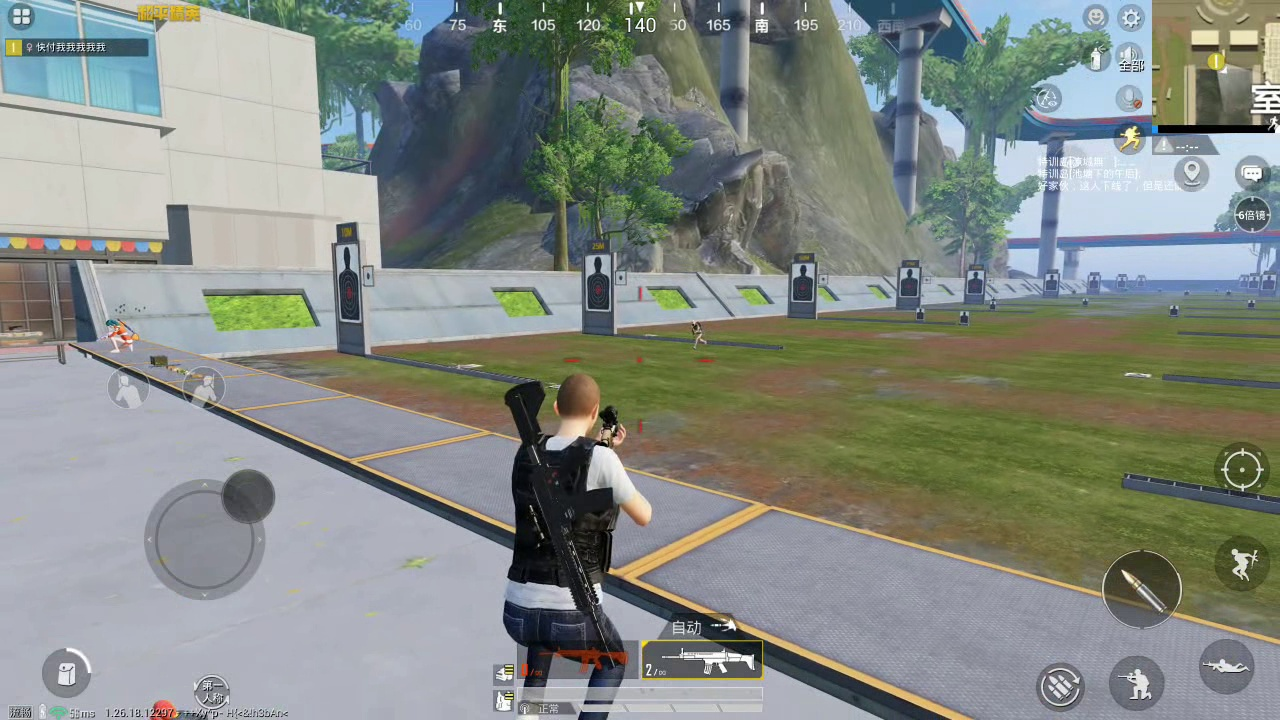enemy: (109, 320, 135, 354), (685, 320, 705, 349)
